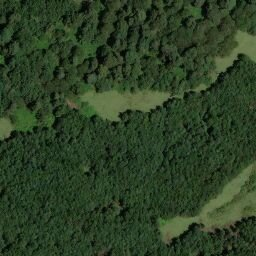forest: (1, 142, 159, 256), (1, 1, 214, 84), (165, 97, 255, 159), (56, 121, 166, 143), (160, 160, 202, 216), (185, 229, 256, 256), (35, 86, 71, 120), (215, 1, 255, 30), (219, 74, 255, 96), (120, 109, 167, 122), (214, 30, 234, 56), (11, 131, 58, 142), (1, 82, 16, 115), (202, 160, 242, 172), (202, 172, 221, 195), (159, 243, 187, 256), (16, 83, 35, 98), (171, 233, 186, 242), (222, 172, 231, 181)
